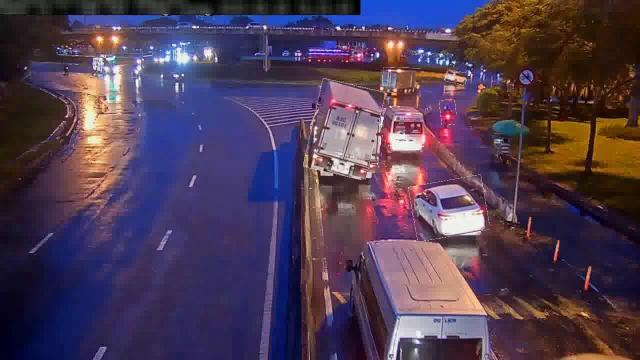Bike: (440, 99, 456, 125)
Car: (410, 177, 488, 238), (446, 71, 466, 85)
Truck: (308, 81, 380, 177), (383, 67, 421, 97)
